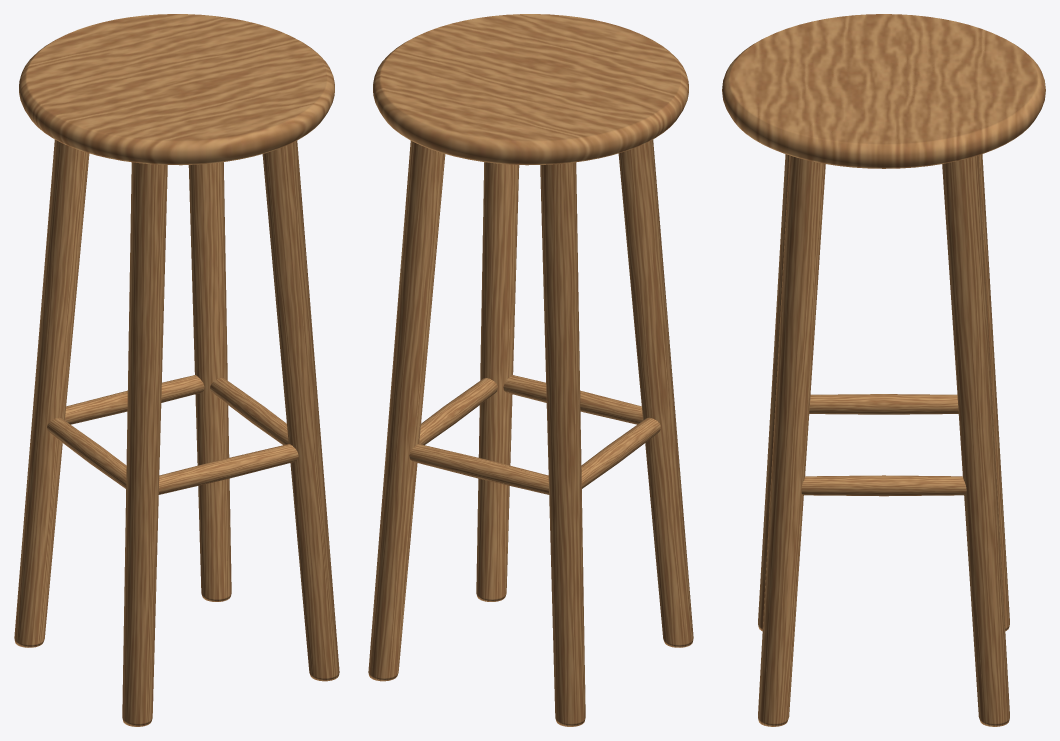
3 renders of one model, left to right at view 1: azimuth 30°, elevation 25°; view 2: azimuth 150°, elevation 25°; view 3: azimuth 270°, elevation 25°, orthographic. The views are drawn at different scales.
Visible parts, largest first — view 1: Kitchen stool, wooden; view 2: Kitchen stool, wooden; view 3: Kitchen stool, wooden.
Part boxes in pixels (bbox=[...]): Kitchen stool, wooden: bbox=[14, 14, 339, 726]; Kitchen stool, wooden: bbox=[368, 14, 693, 726]; Kitchen stool, wooden: bbox=[722, 14, 1045, 726].
Bounding box in the file's own units: 0.3207 × 0.65 × 0.3207.
1 material, 1 textured.
